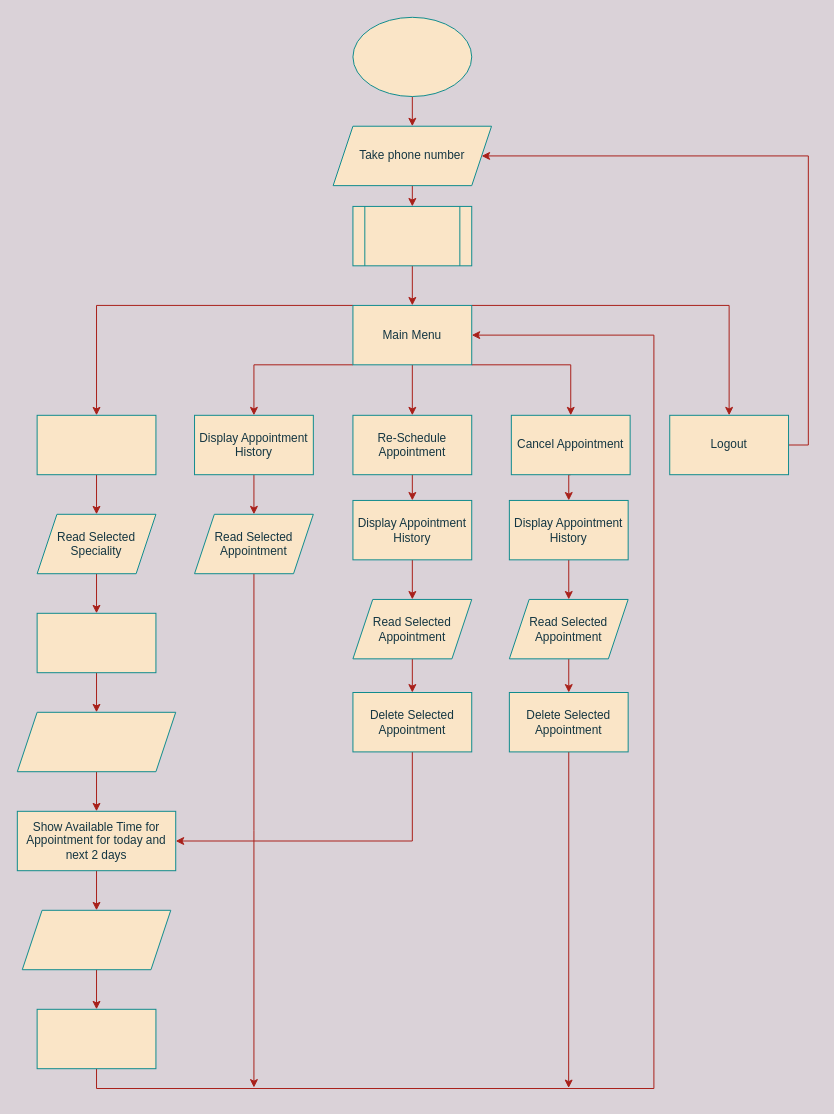
Image size: 834x1114. Some labels were removed from this diagram. Here are the shapes that lost their labels. From the top down, the centre of each, then its label:
[412,56]: START
[412,235]: Login/Register
[96,444]: Display Doctors Speciality List
[96,642]: Display Doctors List
[96,741]: Read Selected Doctor
[96,939]: Read Selected Appointment and update files
[96,1038]: Display Appointment Booked
